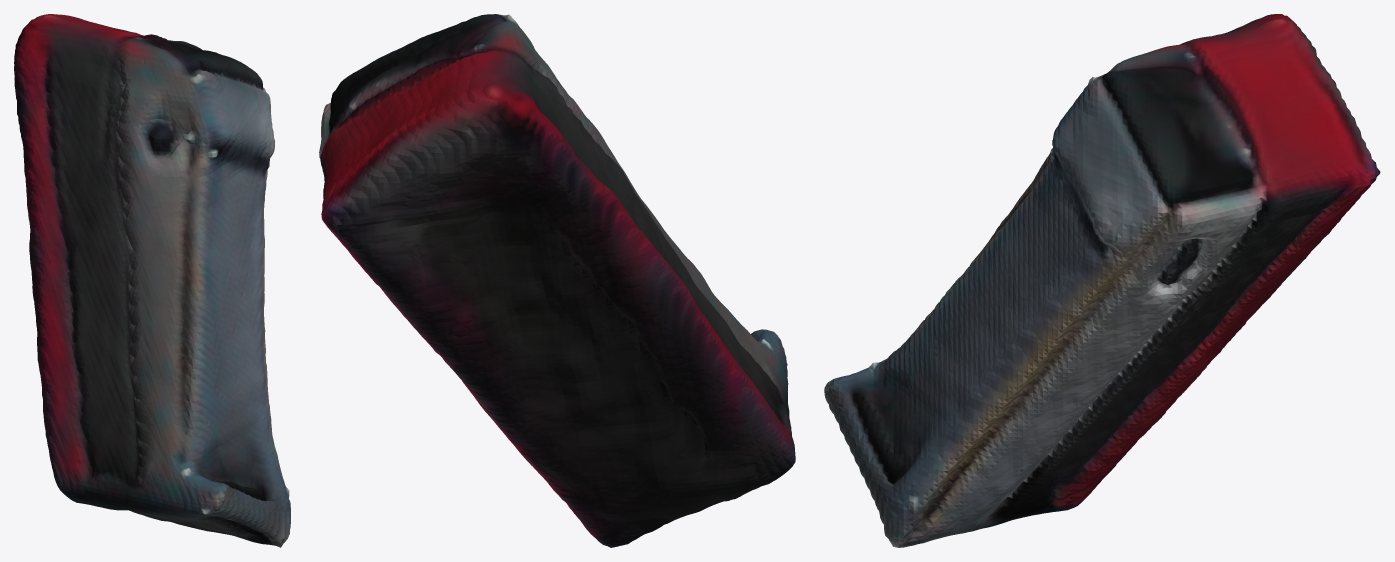
The picture shows the model from 3 angles, left to right: view 1: azimuth 30°, elevation 25°; view 2: azimuth 150°, elevation 25°; view 3: azimuth 270°, elevation 25°; orthographic projection. The views are drawn at different scales.
Bounding box in the file's own units: 0.5274 × 0.7418 × 0.7618.
